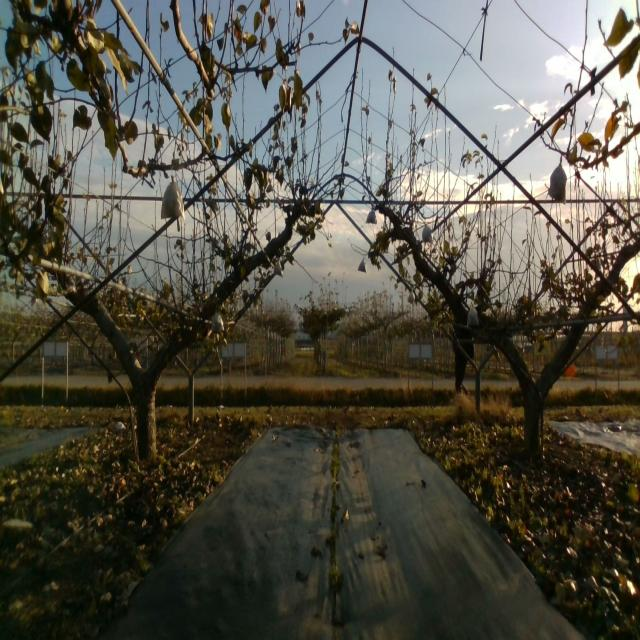pearbags: (548, 153, 568, 205), (161, 180, 186, 221), (211, 310, 224, 336), (467, 302, 479, 327), (422, 224, 434, 245), (366, 207, 377, 224)
